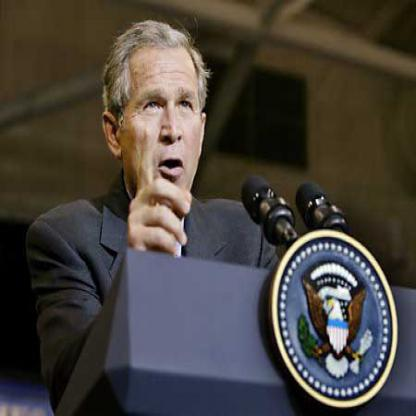face: (117, 30, 207, 209)
